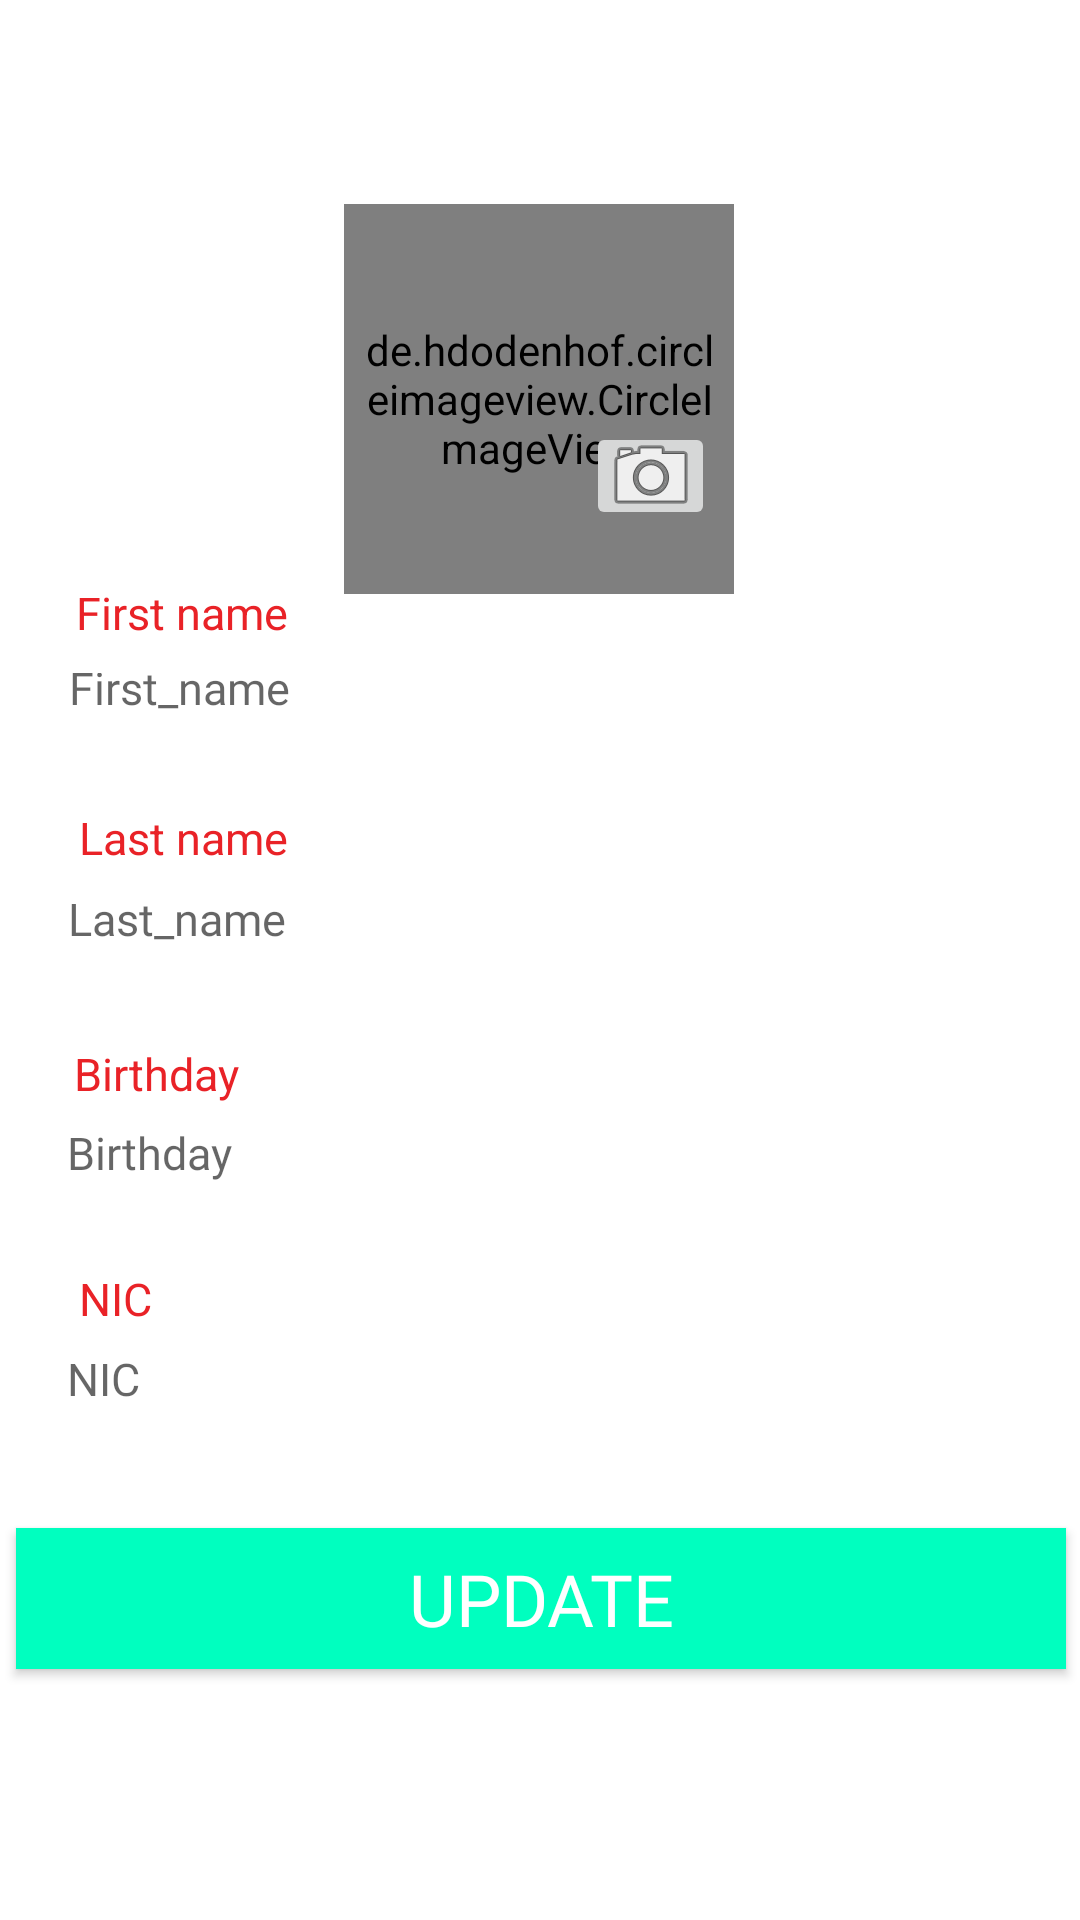

Icons on this 1080x1920 Android screen, each with the point to tap as point (x, y):
camera: point (644, 476)
